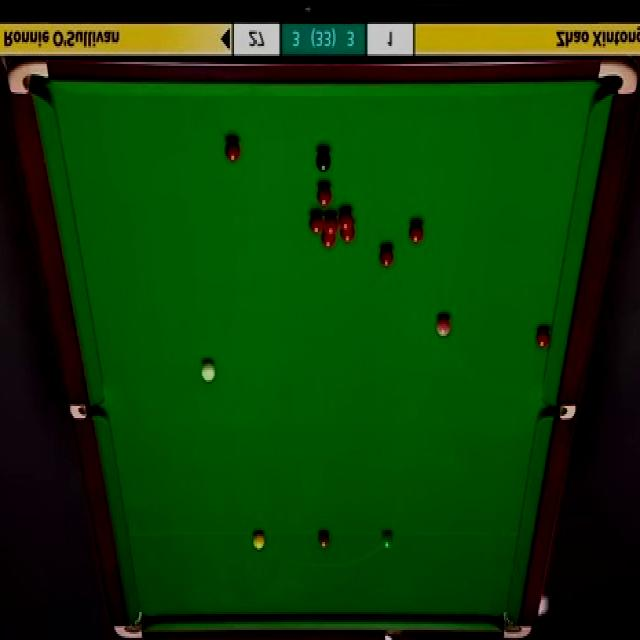pocket: (7, 58, 50, 97), (595, 60, 636, 97), (500, 608, 534, 640), (109, 611, 144, 640), (68, 403, 107, 423), (541, 403, 575, 422)
